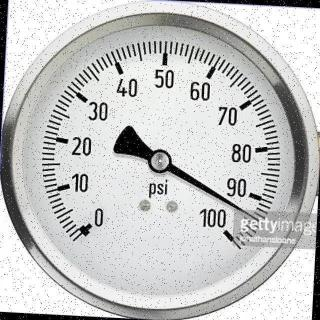gauge: (0, 0, 319, 320), (70, 214, 98, 248), (214, 219, 242, 251), (147, 147, 172, 173), (246, 210, 262, 226)
